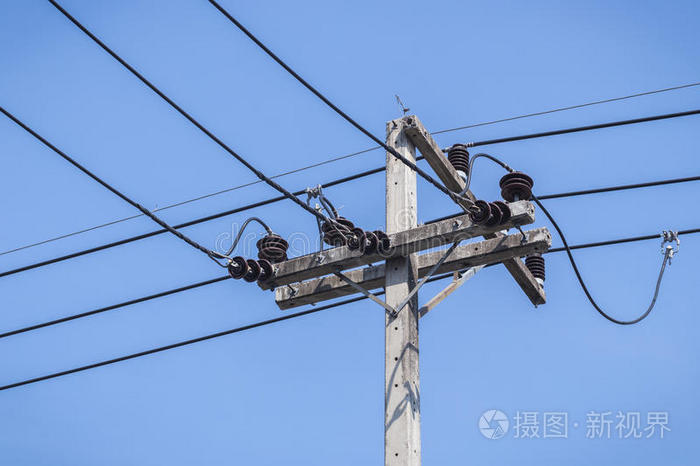insulator: (346, 227, 390, 257), (470, 198, 511, 227), (228, 256, 270, 283)
